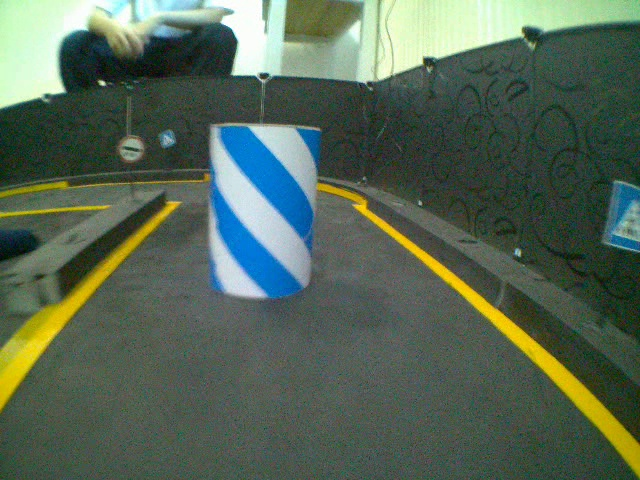bucket: (206, 121, 319, 304)
